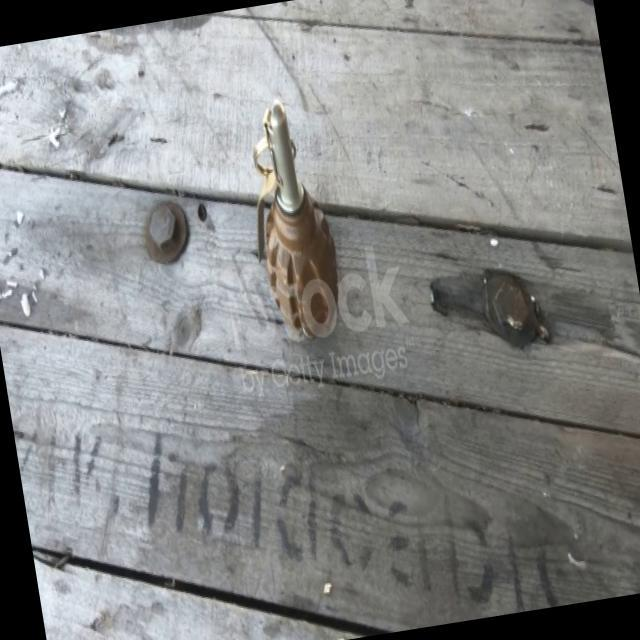grenade: (229, 96, 354, 352)
